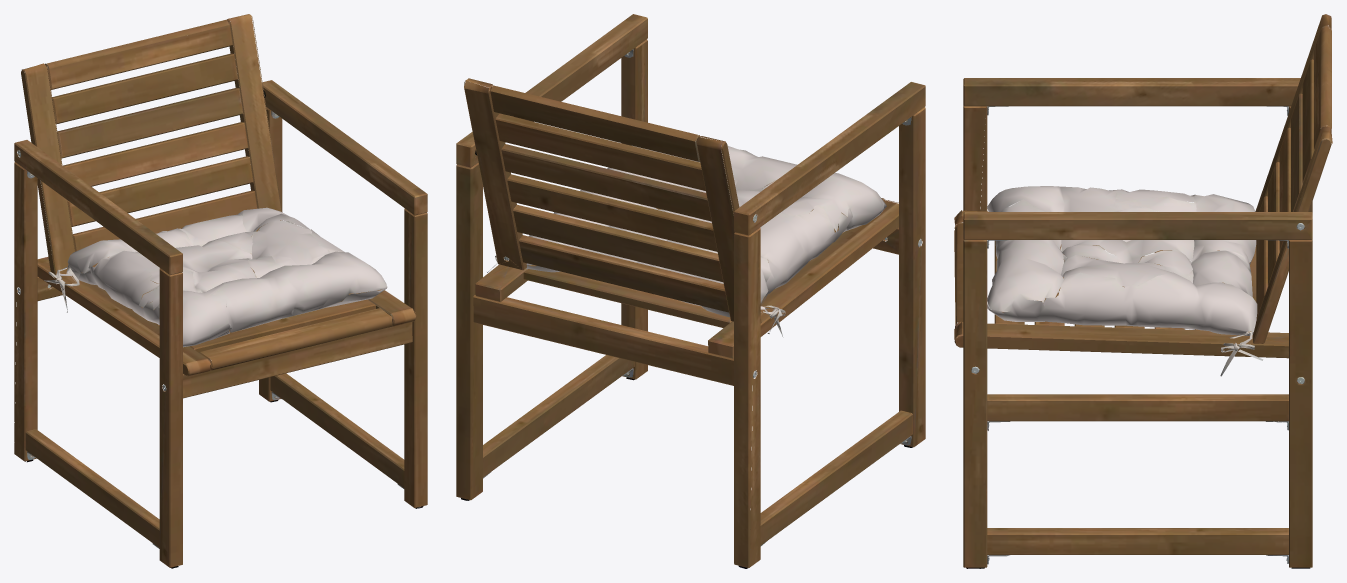
3 views of the same model, side by side, from view 1: azimuth 30°, elevation 25°; view 2: azimuth 150°, elevation 25°; view 3: azimuth 270°, elevation 25° (orthographic). The views are drawn at different scales.
Parts seen in each view (by area): view 1: nammaro-armchair, kuddarna-chair-44; view 2: nammaro-armchair, kuddarna-chair-44; view 3: nammaro-armchair, kuddarna-chair-44.
Part boxes in pixels (x1,y1,x2,y2): nammaro-armchair: (14, 14, 427, 568); kuddarna-chair-44: (44, 207, 387, 347); nammaro-armchair: (456, 14, 925, 568); kuddarna-chair-44: (487, 141, 886, 337); nammaro-armchair: (954, 14, 1332, 568); kuddarna-chair-44: (987, 186, 1263, 376).
Size of the model in its own units: 0.5615 by 0.7859 by 0.6338.
Materials: 2 (2 with a texture image).
